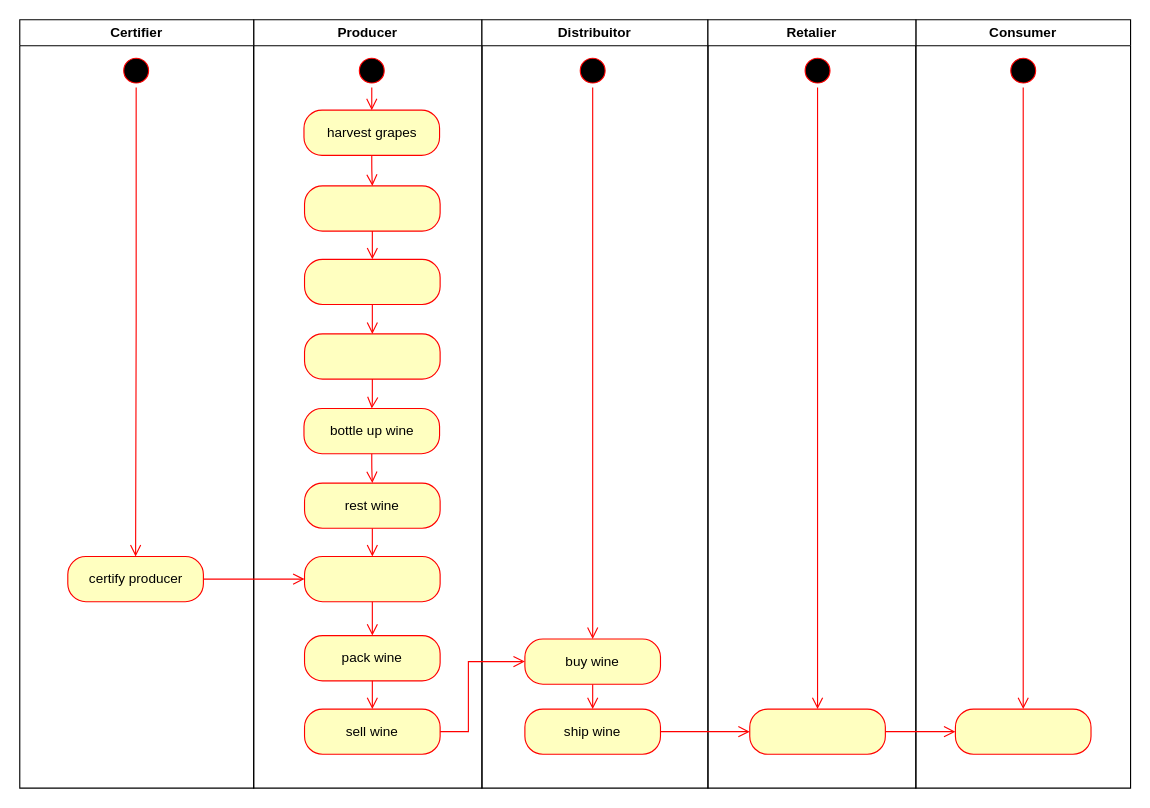
Some shapes in this 1150 by 808 pixel diagram are drawn without their labels. Each missing label, with the centre of its shape:
"age wine" belongs at (x=371, y=356).
"label wine" belongs at (x=371, y=578).
"process grapes" belongs at (x=371, y=208).
"produce wine" belongs at (x=371, y=281).
"purchase wine" belongs at (x=1022, y=731).
"receive wine" belongs at (x=817, y=731).
